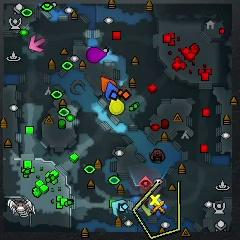Other: (150, 199, 168, 218), (150, 194, 160, 205)
p1: (103, 81, 121, 99)
p3: (85, 47, 108, 64)
p4: (108, 98, 125, 115)
p5: (100, 76, 117, 93)
x1: (29, 33, 46, 54)
x2: (140, 199, 155, 217)
x3: (111, 199, 128, 216)
